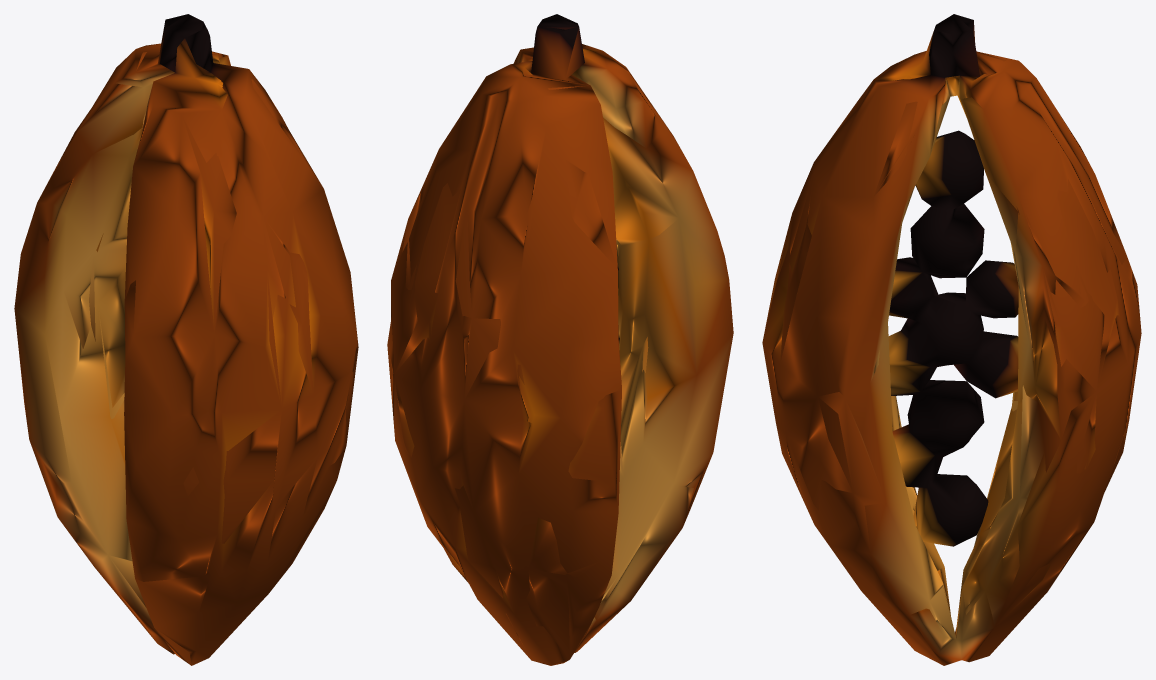
File: gen3d-cacao-pod-lod1.glb
3 renders of one model, left to right at view 1: azimuth 30°, elevation 25°; view 2: azimuth 150°, elevation 25°; view 3: azimuth 270°, elevation 25°, orthographic.
Visible parts, largest first — view 1: part_0; view 2: part_0; view 3: part_0.
Boxes of the visible parts, left/top/right/bottom form: part_0: left=14, top=14, right=358, bottom=665; part_0: left=387, top=14, right=733, bottom=665; part_0: left=762, top=14, right=1141, bottom=665.
Bounding box in the file's own units: 0.3881 × 0.9958 × 0.5369.
